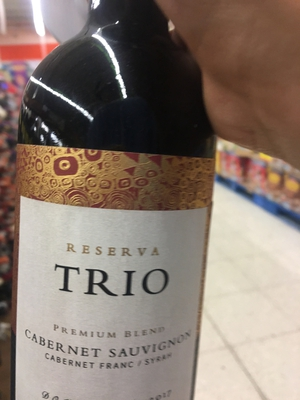trio cabernet sauvignon: (17, 22, 214, 400)
